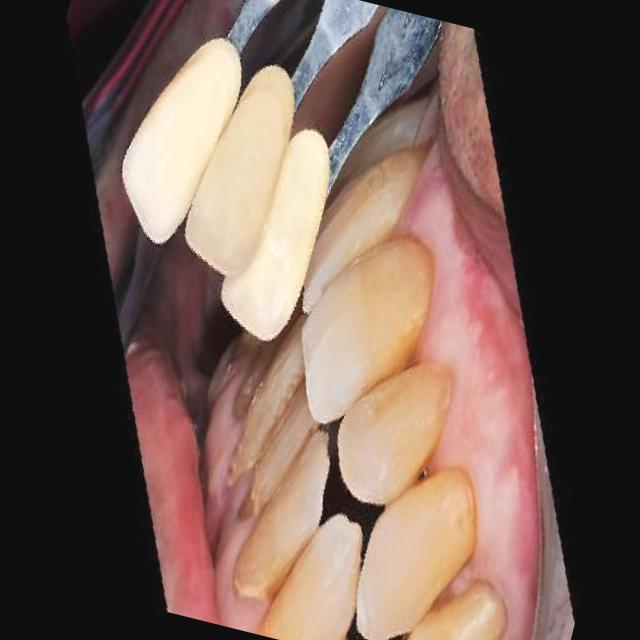calculus: (215, 299, 309, 510), (220, 450, 324, 630), (240, 368, 312, 518)
